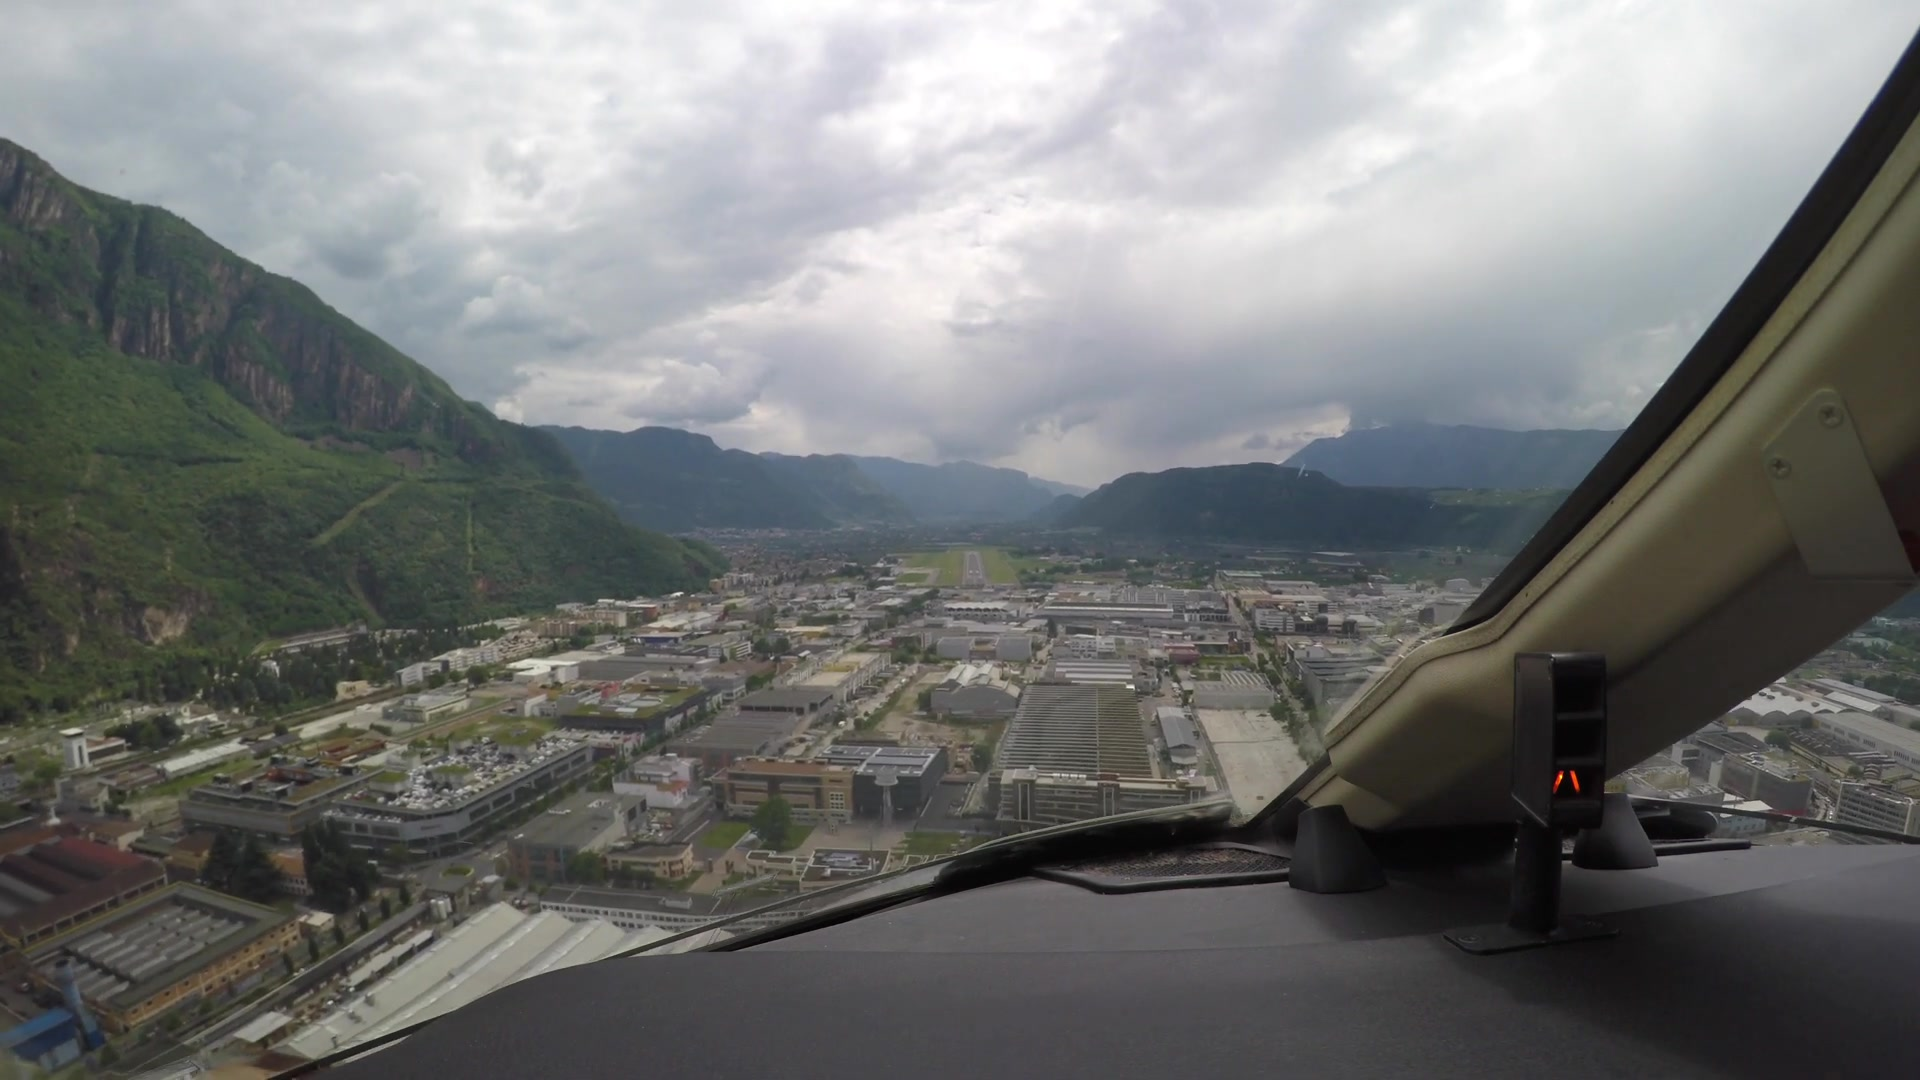runway: (963, 550, 982, 580)
